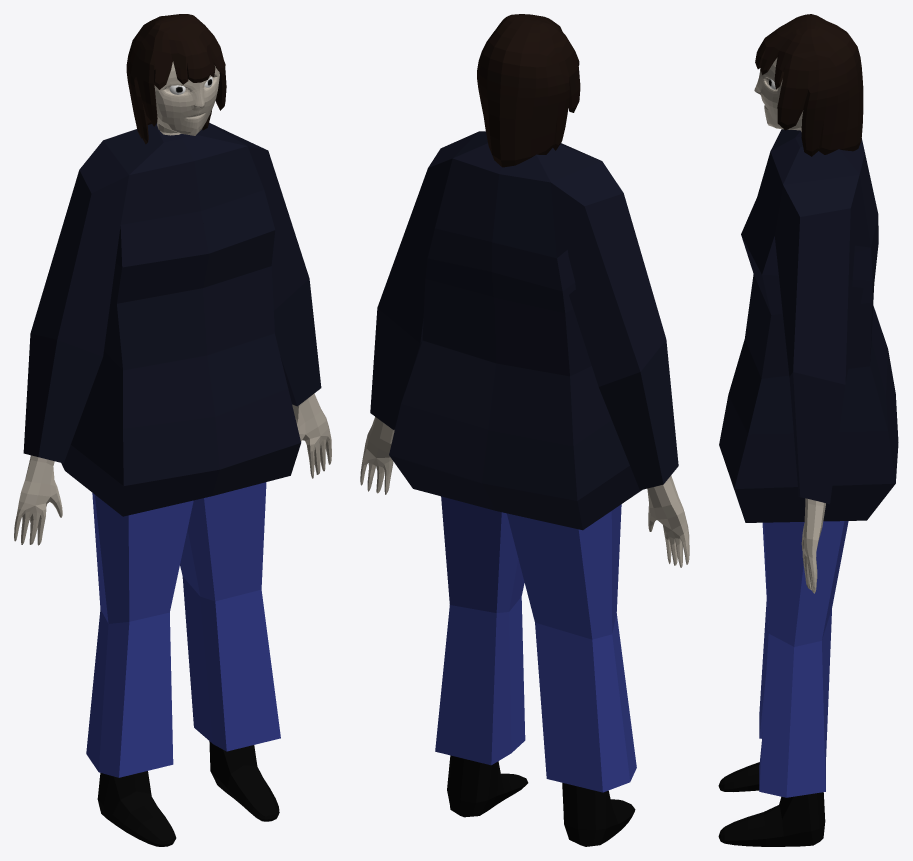
The model's file is female2.fbx.
3 views of the same model, side by side, from view 1: azimuth 30°, elevation 25°; view 2: azimuth 150°, elevation 25°; view 3: azimuth 270°, elevation 25° (orthographic). The views are drawn at different scales.
Parts seen in each view (by area): view 1: sweater_female, pants_female, human, short_hair; view 2: sweater_female, pants_female, short_hair, human; view 3: sweater_female, pants_female, short_hair, human.
Part boxes in pixels (bbox=[...]): sweater_female: bbox=[23, 122, 321, 516]; pants_female: bbox=[86, 482, 280, 777]; human: bbox=[14, 61, 331, 846]; short_hair: bbox=[126, 14, 226, 144]; sweater_female: bbox=[370, 131, 678, 530]; pants_female: bbox=[435, 496, 636, 792]; short_hair: bbox=[477, 14, 580, 167]; human: bbox=[360, 417, 689, 846]; sweater_female: bbox=[719, 129, 898, 522]; pants_female: bbox=[759, 521, 848, 797]; short_hair: bbox=[755, 14, 863, 156]; human: bbox=[718, 57, 825, 846].
Size of the model in its own units: 320 by 756 by 155.
Materials: 4 (1 with a texture image).
